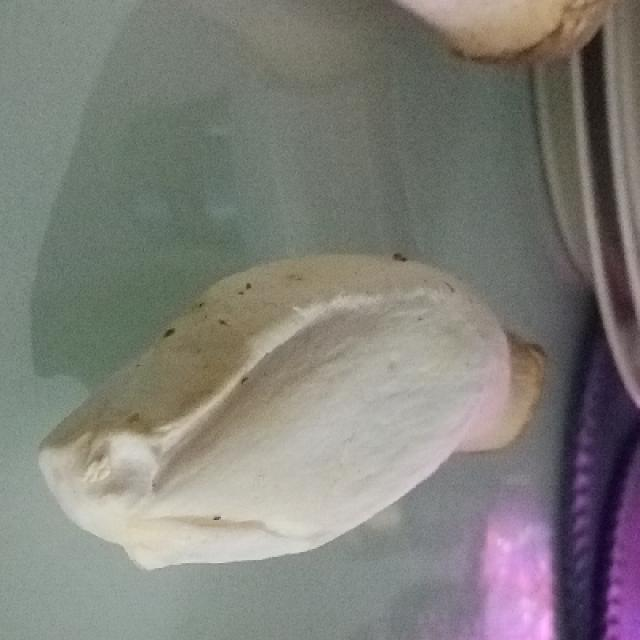Pleurotus eryngii: (41, 250, 548, 572)
